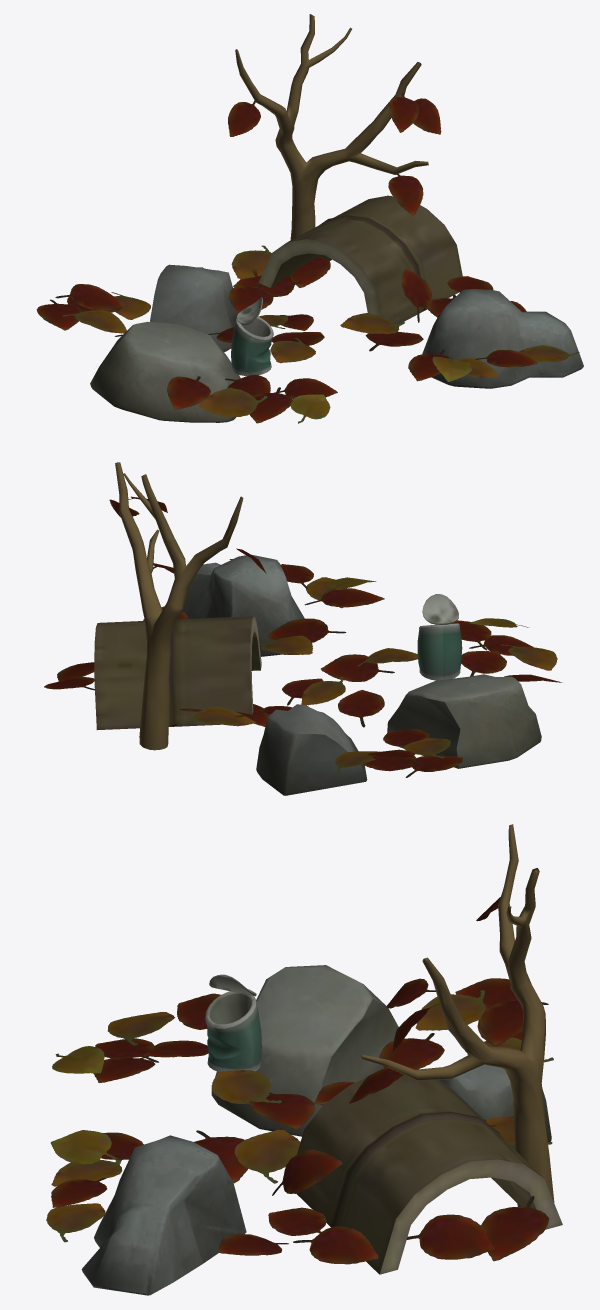
Rendered from autumn-log.glb.
The picture shows the model from 3 angles, top to bottom: view 1: azimuth 30°, elevation 25°; view 2: azimuth 150°, elevation 25°; view 3: azimuth 270°, elevation 25°; orthographic projection. The views are drawn at different scales.
Bounding box in the file's own units: 30.29 × 18.84 × 26.27.
6 materials, 6 textured.
